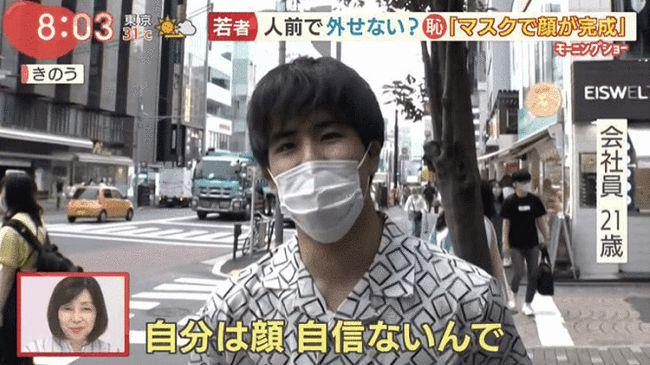mask: (259, 93, 379, 243)
